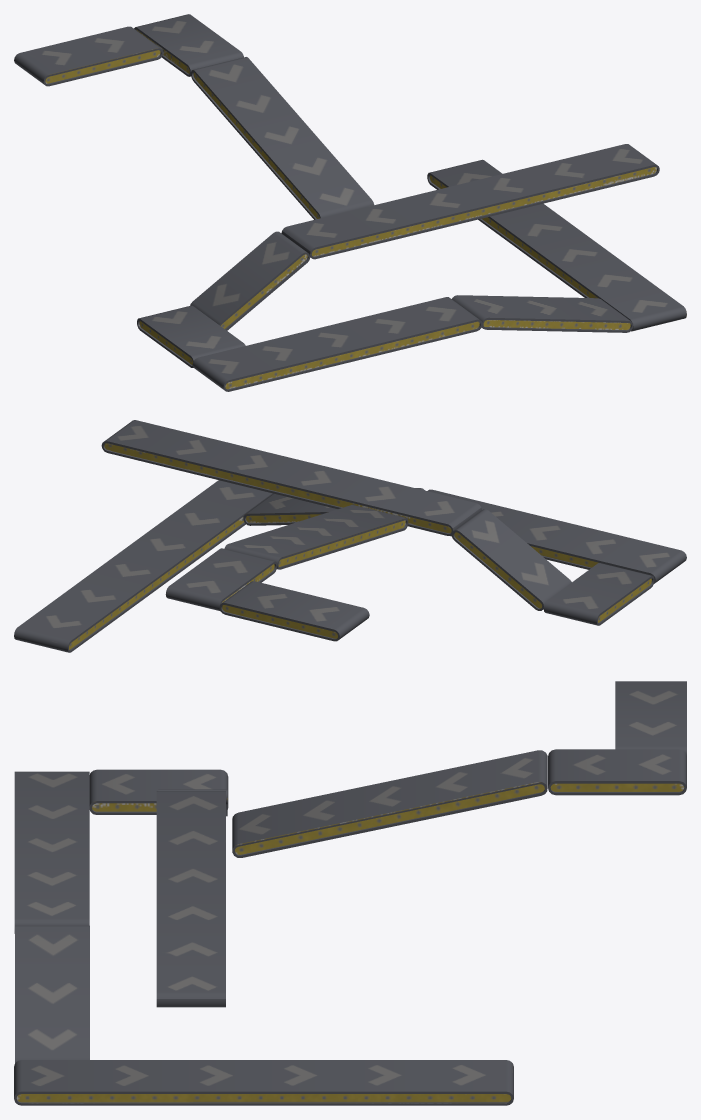
File: conveyor_belt.fbx
3 views of the same model, one above another, from view 1: azimuth 30°, elevation 25°; view 2: azimuth 150°, elevation 25°; view 3: azimuth 270°, elevation 25° (orthographic). The views are drawn at different scales.
Parts seen in each view (by area): view 1: Cylinder.023, Cylinder.024, Cylinder.020, Cylinder, Cylinder.019, Cylinder.022, Cylinder.025, Cylinder.021, Cylinder.026; view 2: Cylinder.023, Cylinder, Cylinder.020, Cylinder.024, Cylinder.022, Cylinder.025, Cylinder.021, Cylinder.026, Cylinder.019; view 3: Cylinder, Cylinder.023, Cylinder.024, Cylinder.020, Cylinder.019, Cylinder.026, Cylinder.025, Cylinder.021.
Part boxes in pixels (left/top/right/bottom): Cylinder.023: left=281, top=144, right=659, bottom=259; Cylinder.024: left=191, top=57, right=374, bottom=219; Cylinder.020: left=192, top=297, right=482, bottom=391; Cylinder: left=427, top=159, right=686, bottom=331; Cylinder.019: left=452, top=295, right=633, bottom=332; Cylinder.022: left=190, top=231, right=310, bottom=330; Cylinder.025: left=14, top=26, right=163, bottom=86; Cylinder.021: left=137, top=305, right=245, bottom=367; Cylinder.026: left=134, top=14, right=243, bottom=76; Cylinder.023: left=101, top=420, right=481, bottom=535; Cylinder: left=14, top=480, right=273, bottom=652; Cylinder.020: left=427, top=489, right=686, bottom=583; Cylinder.024: left=224, top=505, right=408, bottom=569; Cylinder.022: left=451, top=509, right=571, bottom=610; Cylinder.025: left=219, top=581, right=369, bottom=641; Cylinder.021: left=543, top=563, right=654, bottom=625; Cylinder.026: left=165, top=548, right=277, bottom=611; Cylinder.019: left=243, top=488, right=424, bottom=525; Cylinder: left=14, top=1060, right=513, bottom=1105; Cylinder.023: left=156, top=791, right=225, bottom=1007; Cylinder.024: left=232, top=750, right=547, bottom=857; Cylinder.020: left=14, top=771, right=89, bottom=933; Cylinder.019: left=15, top=925, right=89, bottom=1063; Cylinder.026: left=548, top=749, right=686, bottom=795; Cylinder.025: left=615, top=681, right=686, bottom=755; Cylinder.021: left=89, top=769, right=228, bottom=814.
Size of the model in its own units: 17707 by 5448 by 17201.
1 material, 1 textured.
